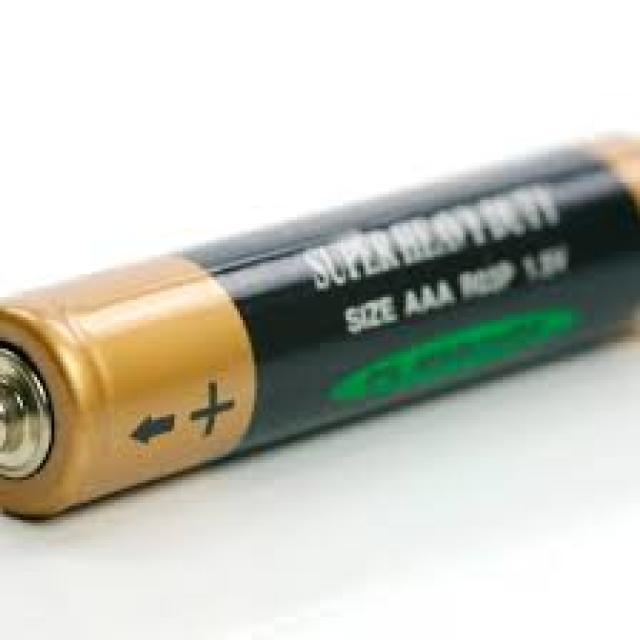Battery: (1, 116, 640, 609)
